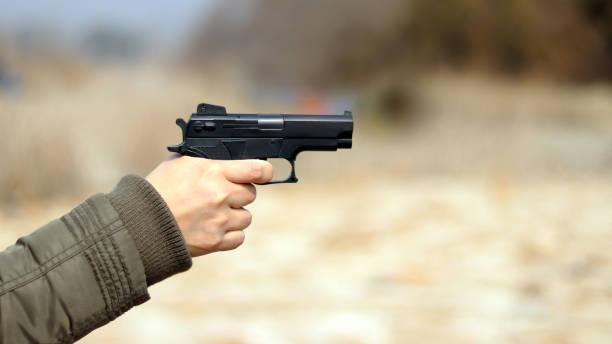weapon: (168, 98, 360, 192)
